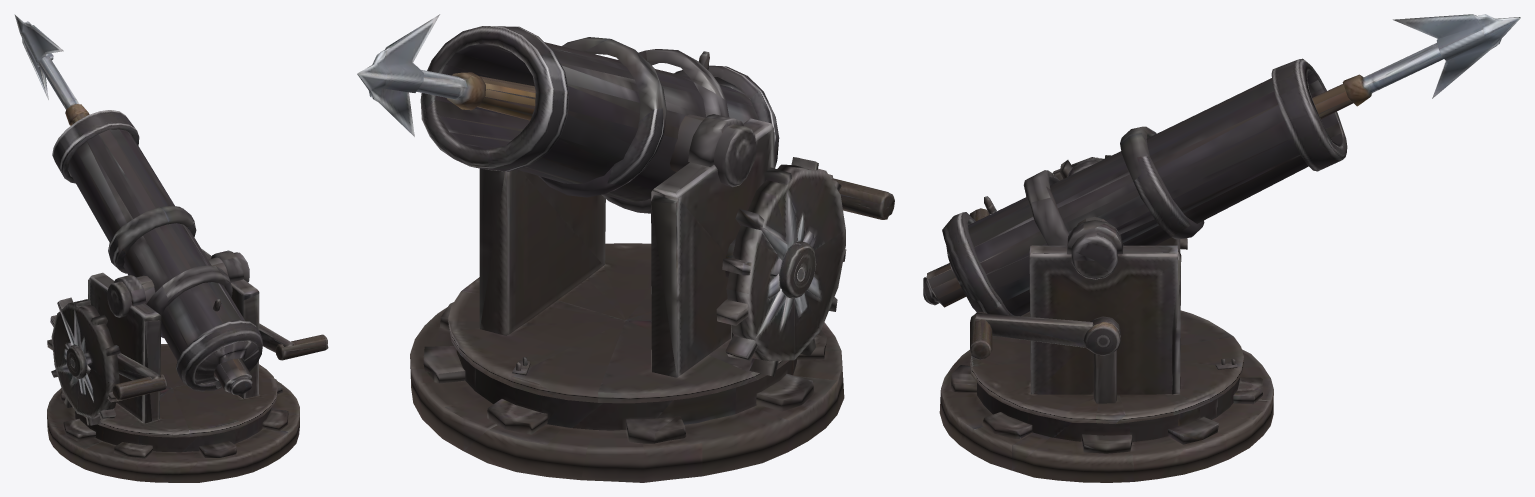
The model's file is harpoon-gun.glb.
3 views of the same model, side by side, from view 1: azimuth 30°, elevation 25°; view 2: azimuth 150°, elevation 25°; view 3: azimuth 270°, elevation 25° (orthographic). The views are drawn at different scales.
Bounding box in the file's own units: 1.44 × 1.92 × 2.6.
1 material, 1 textured.
